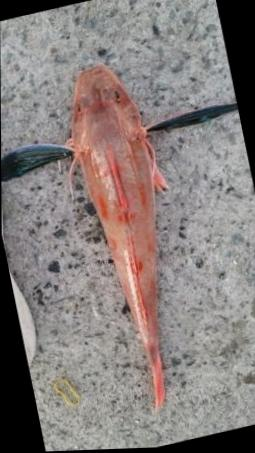fish: (1, 65, 237, 413)
